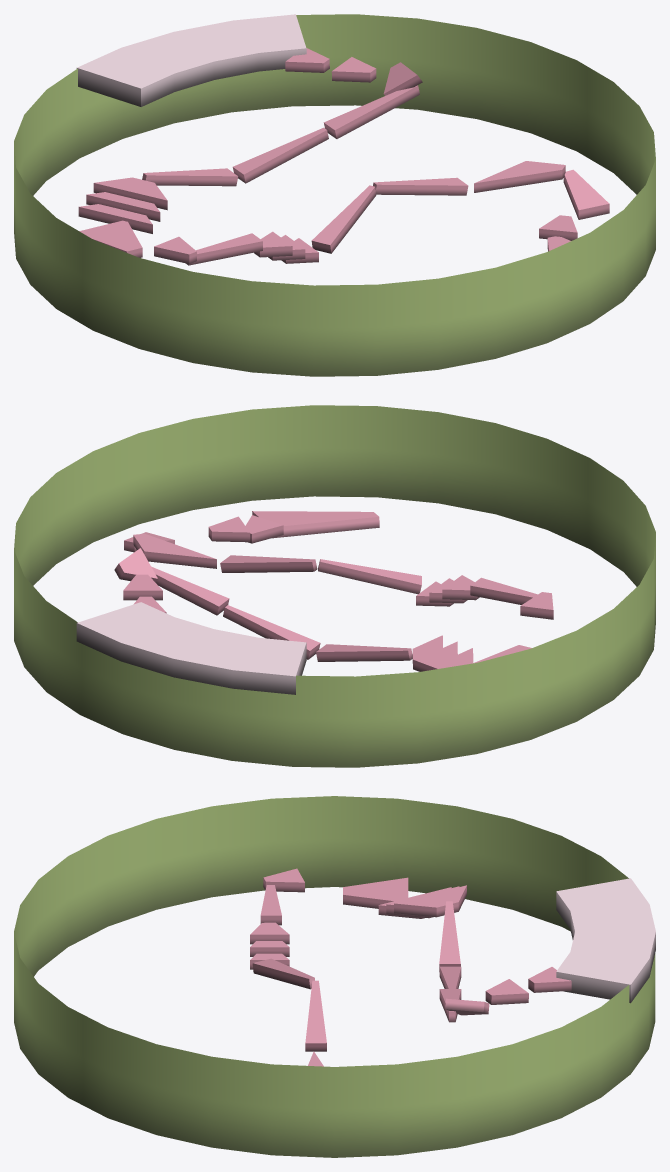
Rendered from Chunk05.glb.
3 views of the same model, one above another, from view 1: azimuth 30°, elevation 25°; view 2: azimuth 150°, elevation 25°; view 3: azimuth 270°, elevation 25° (orthographic).
Parts seen in each view (by area): view 1: Chunk05; view 2: Chunk05; view 3: Chunk05.
Part boxes in pixels (left/top/right/bottom): Chunk05: left=14, top=14, right=655, bottom=376; Chunk05: left=14, top=405, right=655, bottom=767; Chunk05: left=14, top=796, right=655, bottom=1157.
Size of what is drawn, in the model's own units: 69.14 by 11.82 by 69.22.
1 material, 1 textured.
